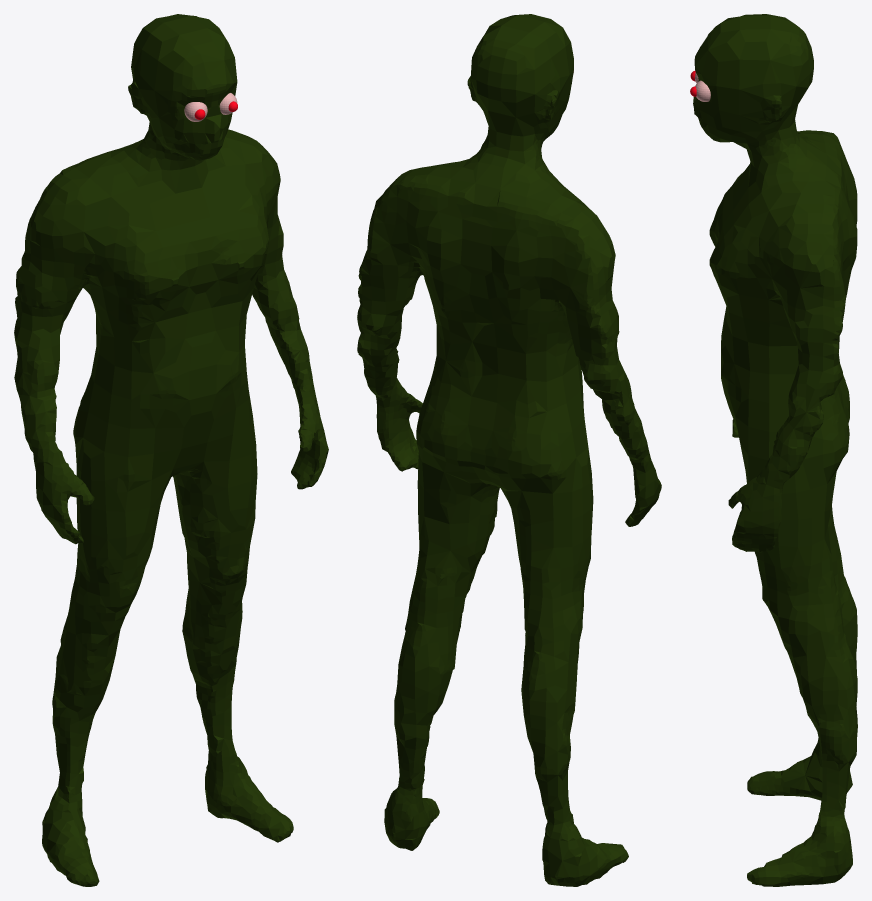
The model's file is zombie.fbx.
The picture shows the model from 3 angles, left to right: view 1: azimuth 30°, elevation 25°; view 2: azimuth 150°, elevation 25°; view 3: azimuth 270°, elevation 25°; orthographic projection. The views are drawn at different scales.
Parts seen in each view (by area): view 1: body; view 2: body; view 3: body.
Boxes of the visible parts, x1,y1,x2,y2 form: body: (14,14,328,886); body: (357,14,661,886); body: (690,14,857,886).
Bounding box in the file's own units: 49.47 × 140 × 26.17.
